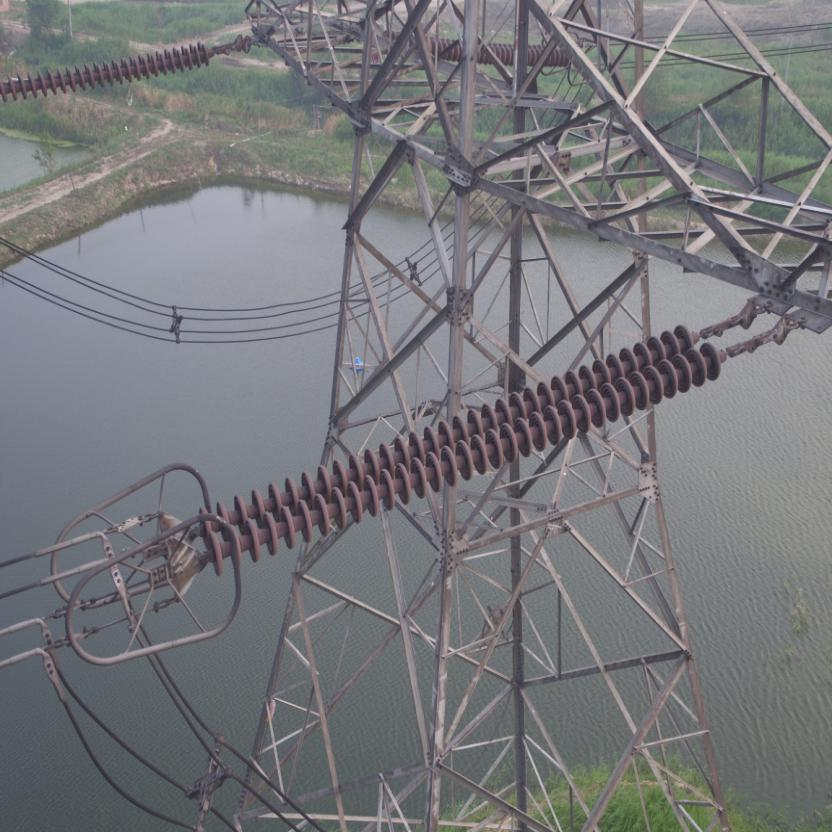insulator: (187, 318, 748, 582), (0, 31, 234, 102)
